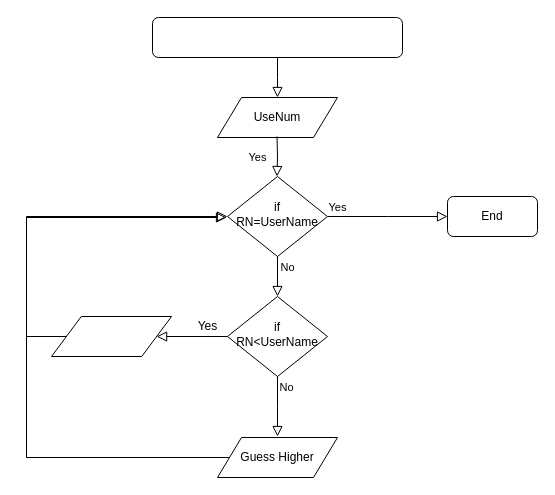
Image size: 555x495. Some labels were removed from this diagram. Here are the shapes that lost their labels. From the top down, the centre of each, then its label:
[277,37]: int RN=ComputerCreateRandom(1,1000)
[111,336]: Guess Lower
